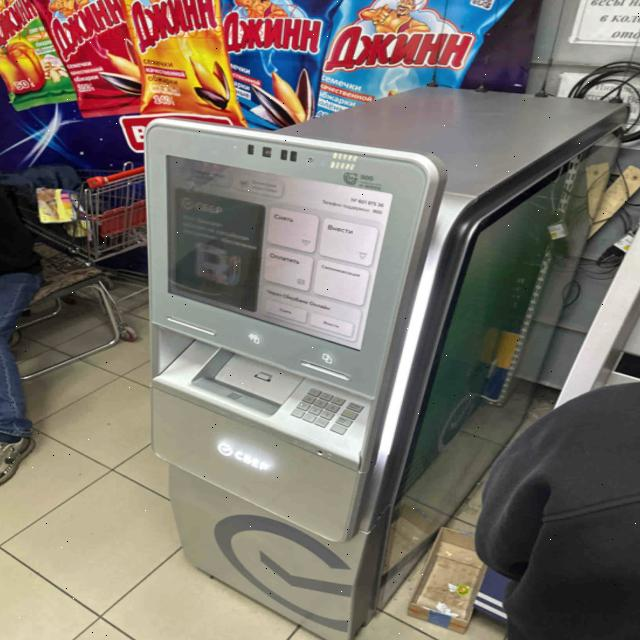bank: (130, 78, 616, 640)
